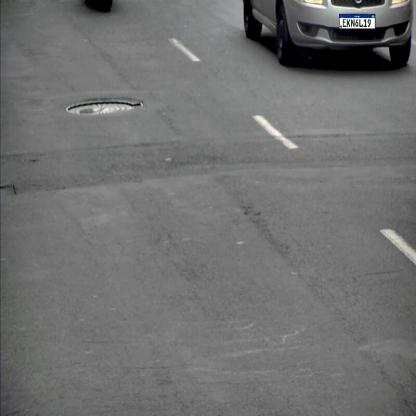PlacaM: (339, 14, 375, 29)
